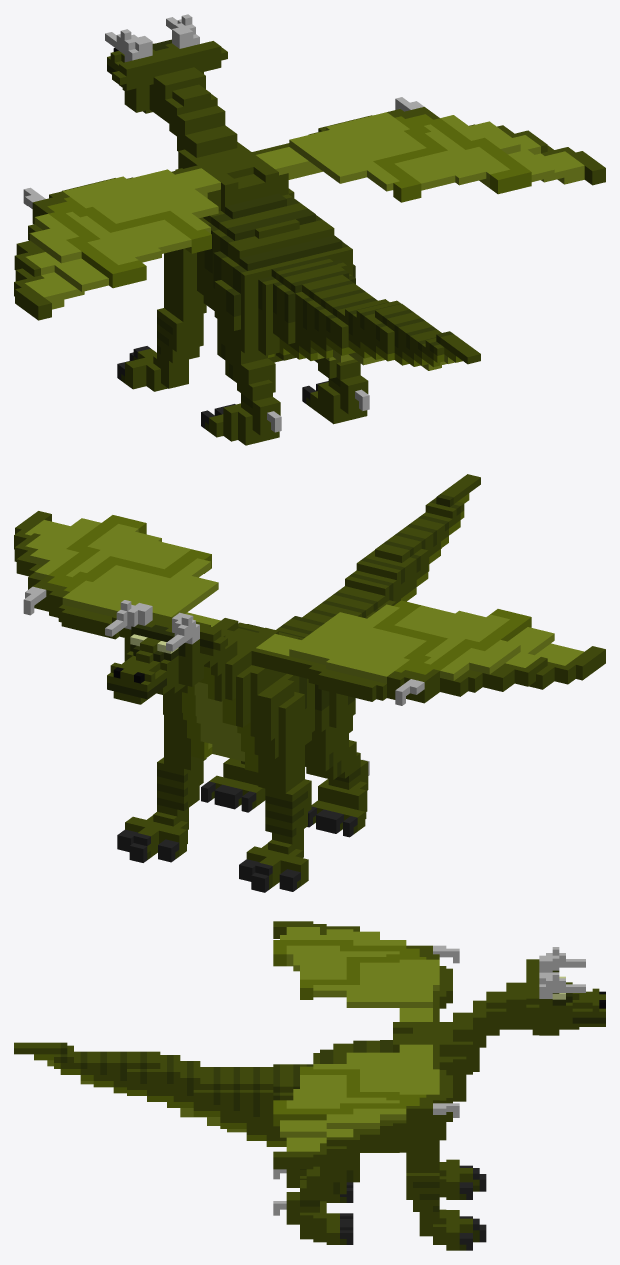
Rendered from green_dragon.fbx.
3 views of the same model, one above another, from view 1: azimuth 30°, elevation 25°; view 2: azimuth 150°, elevation 25°; view 3: azimuth 270°, elevation 25° (orthographic). The views are drawn at different scales.
Visible parts, largest first — view 1: green_dragon; view 2: green_dragon; view 3: green_dragon.
Part boxes in pixels (<box>): green_dragon: <box>14,14,605,445</box>; green_dragon: <box>14,474,605,892</box>; green_dragon: <box>14,921,605,1250</box>.
Size of the model in its own units: 84 by 42 by 89.
